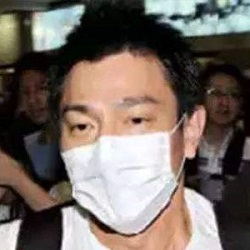mask: (51, 130, 179, 234)
